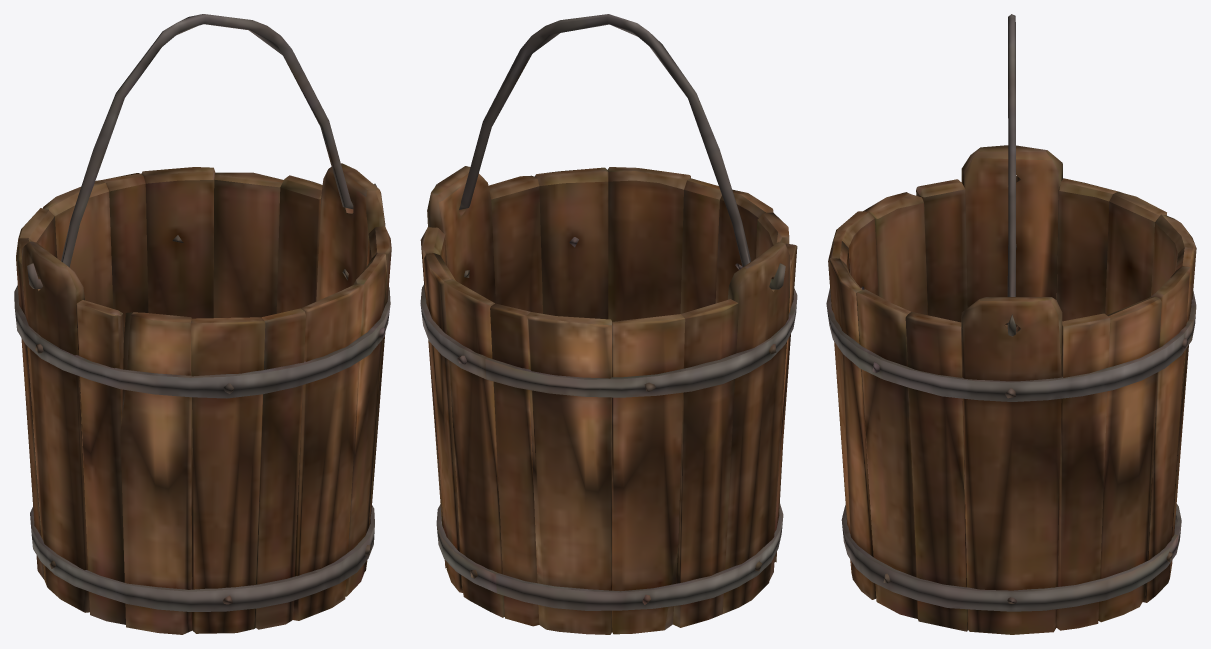
Rendered from wooden_bucket_01.glb.
3 views of the same model, side by side, from view 1: azimuth 30°, elevation 25°; view 2: azimuth 150°, elevation 25°; view 3: azimuth 270°, elevation 25° (orthographic).
Visible parts, largest first — view 1: wooden_bucket_01; view 2: wooden_bucket_01; view 3: wooden_bucket_01.
Boxes of the visible parts, left/top/right/bottom form: wooden_bucket_01: left=14, top=14, right=391, bottom=634; wooden_bucket_01: left=420, top=14, right=797, bottom=634; wooden_bucket_01: left=826, top=14, right=1196, bottom=634.
Size of the model in its own units: 0.3663 by 0.5493 by 0.3408.
Materials: 1 (1 with a texture image).
